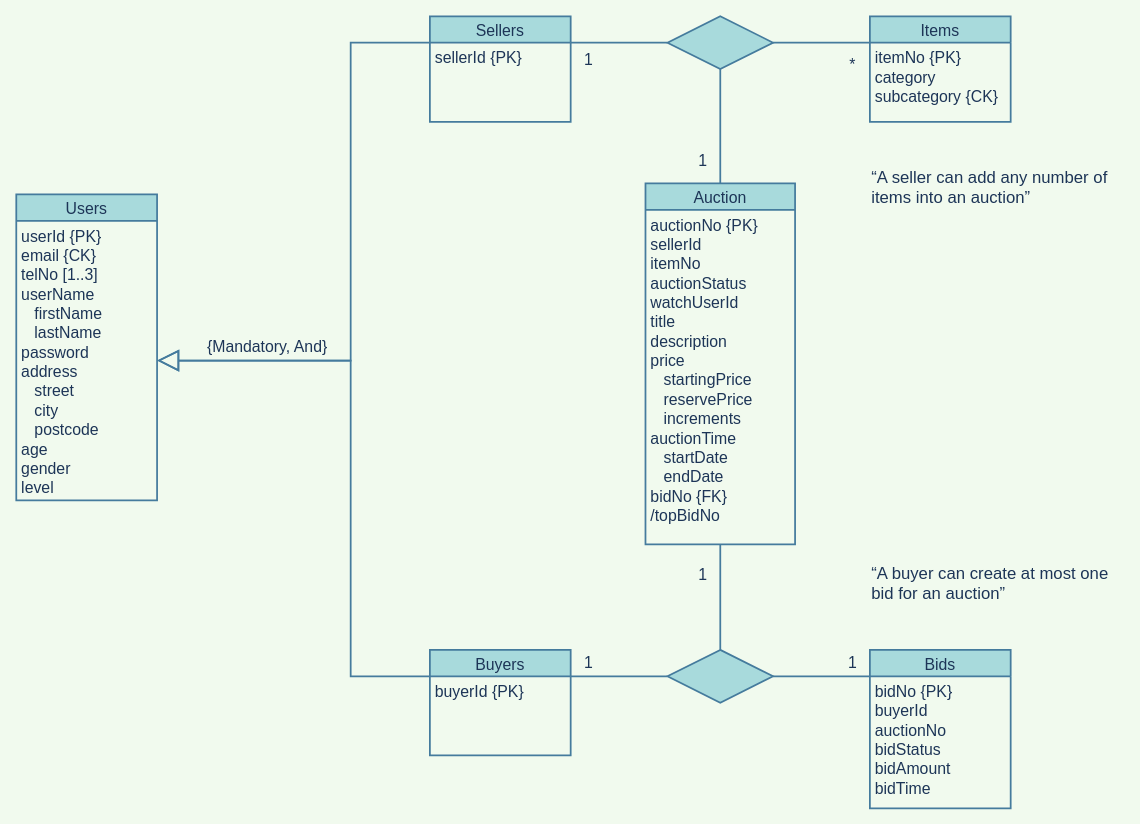
The diagram is 1140 pixels wide and 824 high, and some of its shapes have lost their labels. Each missing label, with the centre of its shape:
Add: (x=720, y=42)
Create: (x=720, y=676)
